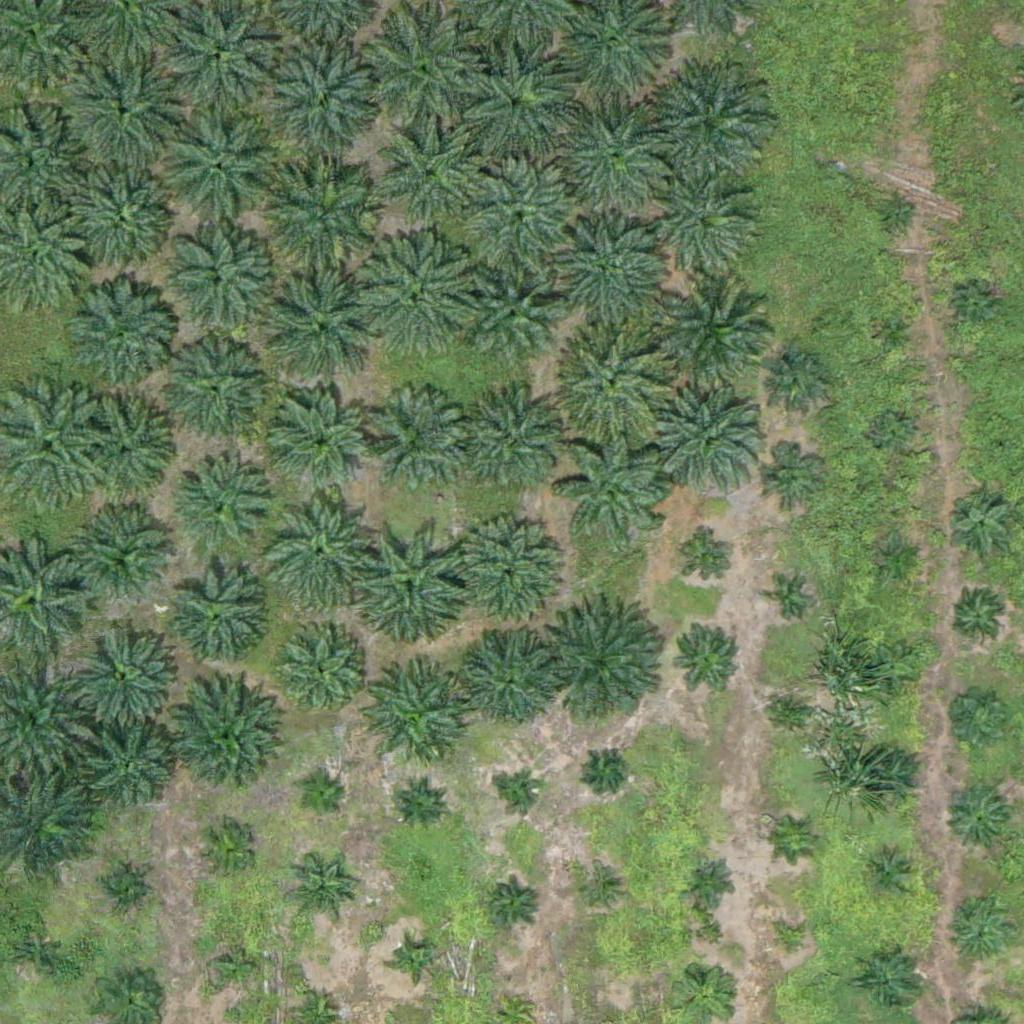Kelapa_Sawit: (62, 44, 187, 170), (58, 151, 183, 277), (54, 272, 179, 398), (156, 222, 281, 348), (156, 105, 281, 231), (262, 152, 387, 278), (261, 268, 386, 394), (359, 8, 484, 134), (449, 42, 574, 168), (457, 164, 582, 290), (544, 215, 669, 341), (552, 101, 677, 227), (645, 63, 770, 189), (656, 283, 781, 409), (350, 522, 475, 648), (258, 488, 383, 614), (262, 39, 387, 164), (357, 235, 482, 360), (546, 603, 671, 728), (167, 684, 280, 798), (558, 430, 671, 543), (447, 516, 560, 629), (68, 614, 180, 728), (655, 390, 767, 503), (559, 325, 671, 438), (356, 666, 468, 779), (382, 126, 482, 227), (656, 178, 756, 279), (457, 627, 557, 728), (463, 392, 563, 493), (362, 391, 462, 492), (272, 394, 372, 495), (271, 621, 371, 722), (160, 341, 260, 442), (172, 457, 272, 558), (74, 390, 174, 491), (164, 566, 264, 666), (77, 505, 177, 605), (86, 725, 174, 813), (467, 274, 554, 363), (938, 683, 1013, 759), (670, 619, 745, 694), (947, 904, 1010, 967), (288, 864, 351, 927), (194, 818, 257, 881), (860, 947, 923, 1010), (861, 747, 924, 810), (757, 446, 820, 509), (767, 348, 830, 411), (205, 935, 268, 998), (946, 788, 1008, 851), (947, 490, 1009, 553), (2, 922, 64, 985), (865, 851, 915, 902), (684, 536, 734, 587), (872, 645, 922, 696), (95, 864, 145, 915), (395, 779, 445, 829), (489, 877, 539, 927), (954, 592, 1004, 642), (685, 856, 735, 906), (296, 774, 346, 824), (779, 821, 817, 859), (586, 749, 624, 787), (872, 412, 910, 450), (876, 314, 914, 352), (877, 195, 915, 233), (879, 538, 917, 576), (772, 922, 810, 960), (397, 940, 435, 978), (503, 775, 540, 813), (958, 288, 995, 326), (580, 873, 617, 911), (770, 583, 807, 620), (774, 693, 811, 730), (989, 438, 1014, 463)
